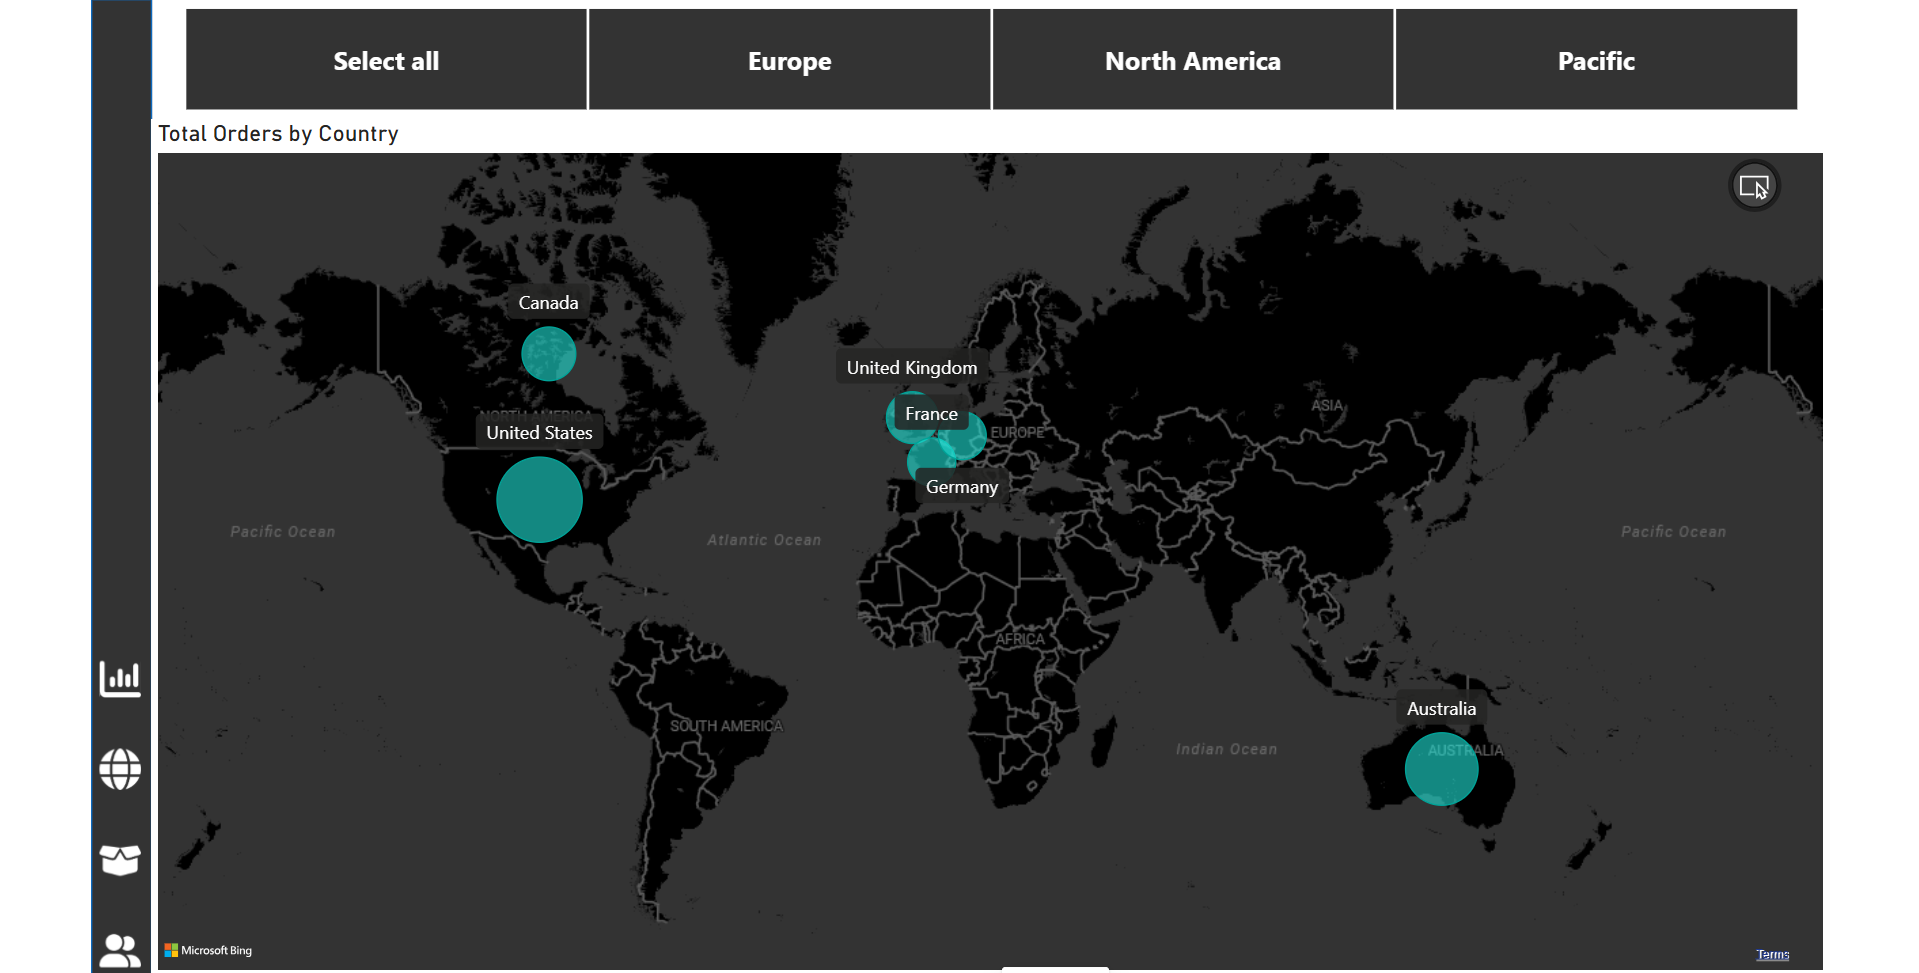

The dashboard page shown, as its layout file describes it:
{"tool":"powerbi","page":{"name":"Map","canvas":[1280,720],"ordinal":1},"visuals":[{"type":"shape","box":[0,0,45,720],"z":0},{"type":"map","fields":{"Category":["Territory Lookup.Country"],"Size":["Measure Table.Total Orders"]},"box":[44.3,88.6,1235.7,631.4],"z":1000},{"type":"actionButton","box":[2.4,548.1,44.3,38.6],"z":1000,"group":"g1"},{"type":"slicer","fields":{"Values":["Territory Lookup.Continent"]},"box":[44.3,0,1235.7,88.6],"z":2000},{"type":"actionButton","box":[2.4,681.4,44.3,38.6],"z":2000,"group":"g1"},{"type":"actionButton","box":[2.4,481.4,44.3,38.6],"z":3000,"group":"g1"},{"type":"group","id":"g1","title":"Navigataion Buttons","box":[2.4,481.4,44.3,238.6],"z":3000},{"type":"actionButton","box":[2.4,614.7,44.3,38.6],"z":4000,"group":"g1"}]}

Visuals, with their boxes on the page's 1280x720 design canvas (x1, y1, x2, y2). These are canvas units, not pixel positions in the 1919x973 screenshot, which may show the page scaled, cropped or inside an application window:
shape: (0, 0, 45, 720)
map - Territory Lookup.Country x Measure Table.Total Orders: (44, 89, 1280, 720)
actionButton: (2, 548, 47, 587)
slicer - Territory Lookup.Continent: (44, 0, 1280, 89)
actionButton: (2, 681, 47, 720)
actionButton: (2, 481, 47, 520)
"Navigataion Buttons" group: (2, 481, 47, 720)
actionButton: (2, 615, 47, 653)
